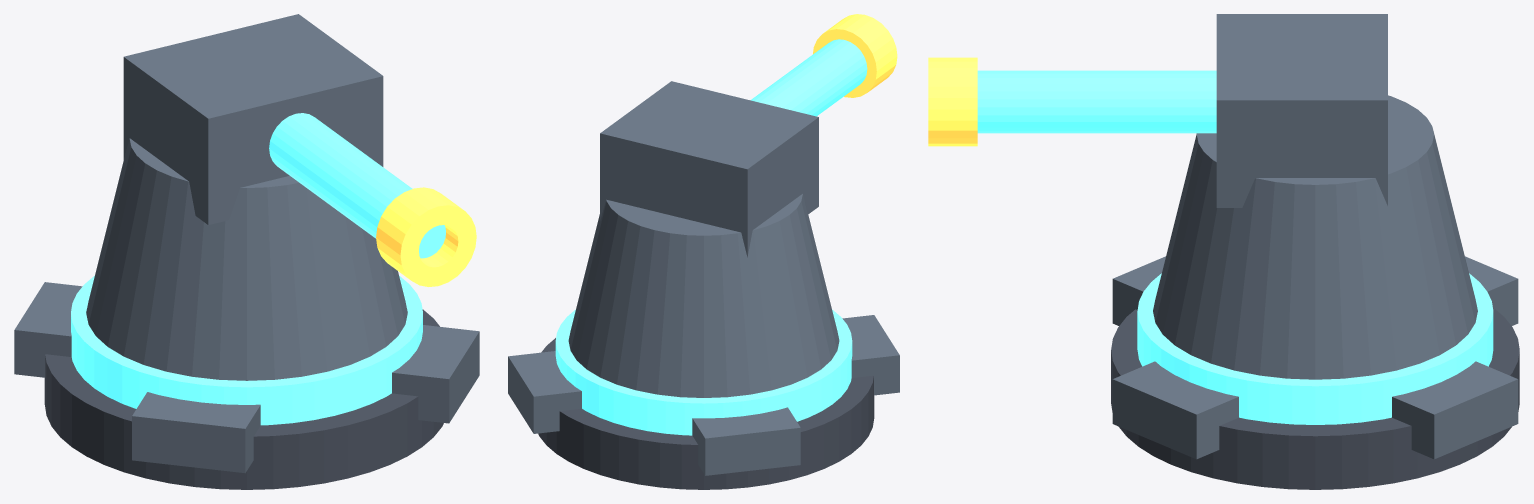
The model's file is AXM-TURRET-001.glb.
3 renders of one model, left to right at view 1: azimuth 30°, elevation 25°; view 2: azimuth 150°, elevation 25°; view 3: azimuth 270°, elevation 25°, orthographic. The views are drawn at different scales.
Visible parts, largest first — view 1: body, head, base, rotation_ring, barrel, stabilizer__r02, muzzle, stabilizer__r03, stabilizer__r01; view 2: body, head, base, rotation_ring, stabilizer__r01, barrel, stabilizer__r00, muzzle, stabilizer__r02; view 3: body, head, base, barrel, rotation_ring, stabilizer__r00, stabilizer__r03, muzzle, stabilizer__r01, stabilizer__r02.
Part boxes in pixels (left/top/right/bottom): body: left=86, top=138, right=407, bottom=380; head: left=123, top=14, right=383, bottom=224; base: left=44, top=309, right=443, bottom=489; rotation_ring: left=71, top=275, right=422, bottom=425; barrel: left=269, top=113, right=445, bottom=258; stabilizer__r02: left=132, top=392, right=260, bottom=473; muzzle: left=376, top=187, right=476, bottom=286; stabilizer__r03: left=392, top=325, right=479, bottom=423; stabilizer__r01: left=14, top=282, right=82, bottom=377; body: left=568, top=194, right=839, bottom=397; head: left=600, top=81, right=818, bottom=257; base: left=538, top=338, right=874, bottom=489; rotation_ring: left=555, top=309, right=852, bottom=435; stabilizer__r01: left=692, top=407, right=800, bottom=475; barrel: left=751, top=39, right=867, bottom=116; stabilizer__r00: left=508, top=351, right=581, bottom=433; muzzle: left=813, top=14, right=897, bottom=97; stabilizer__r02: left=842, top=315, right=899, bottom=395; body: left=1153, top=95, right=1477, bottom=379; head: left=1216, top=14, right=1387, bottom=207; base: left=1111, top=309, right=1519, bottom=489; barrel: left=977, top=70, right=1216, bottom=133; rotation_ring: left=1137, top=273, right=1493, bottom=424; stabilizer__r00: left=1392, top=361, right=1518, bottom=459; stabilizer__r03: left=1112, top=361, right=1238, bottom=459; muzzle: left=928, top=57, right=977, bottom=146; stabilizer__r01: left=1465, top=256, right=1518, bottom=325; stabilizer__r02: left=1112, top=256, right=1165, bottom=325.
Bounding box in the file's own units: 1.24 × 1.16 × 1.79.
